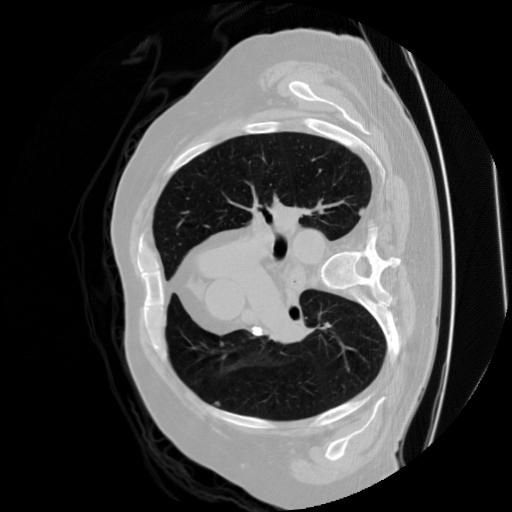nodule: (355, 206, 369, 220)
